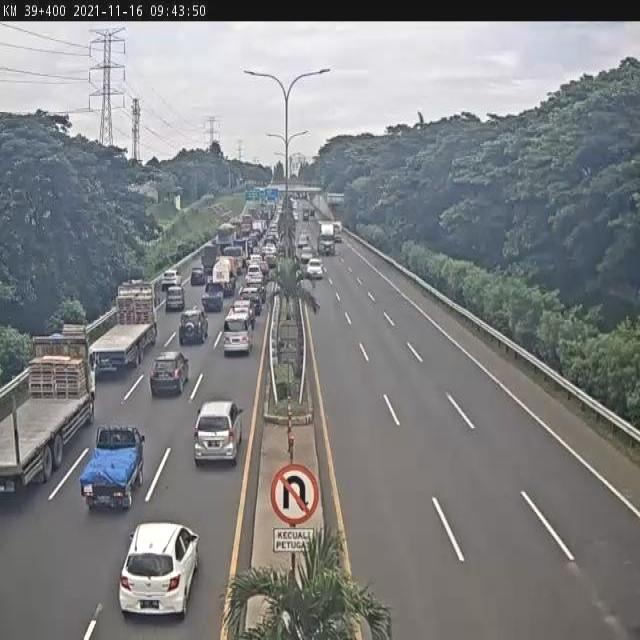Car: (117, 522, 200, 620), (193, 400, 244, 466), (150, 349, 190, 396), (178, 306, 209, 344), (201, 282, 225, 312), (238, 290, 261, 321), (165, 284, 185, 312), (161, 270, 182, 291), (306, 258, 324, 279), (300, 247, 313, 264)
Truck: (2, 324, 98, 492), (91, 281, 158, 379), (80, 422, 146, 510), (316, 221, 336, 255), (333, 221, 342, 241)
Van: (223, 302, 256, 353)
